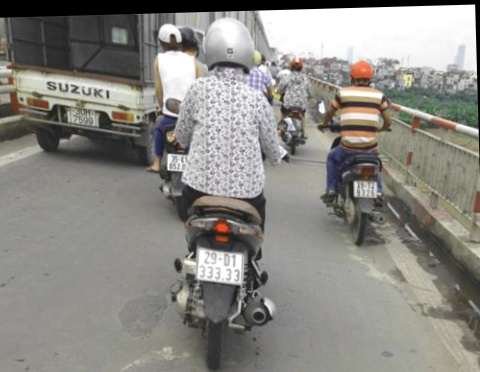Bien-so: (184, 233, 230, 275), (65, 75, 98, 101), (161, 132, 183, 155), (344, 172, 366, 194)
